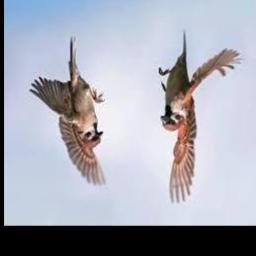Sparrow: (157, 31, 243, 204), (28, 35, 106, 186)
